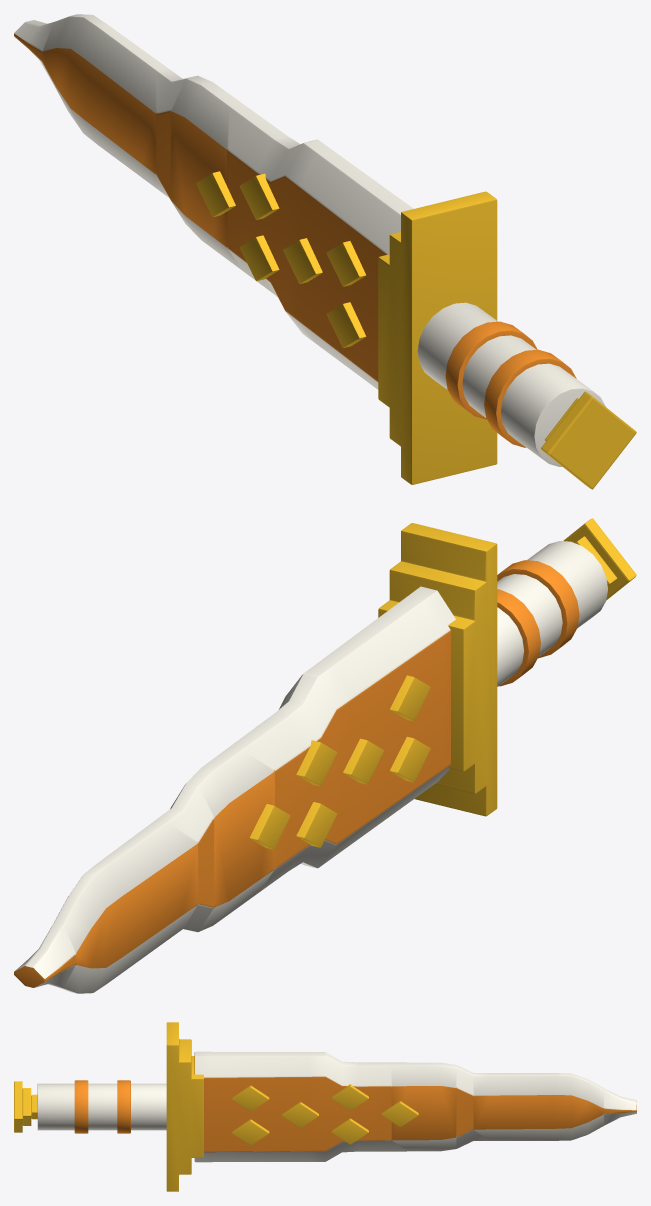
Rendered from Sword_AurelianClaymore.glb.
3 renders of one model, top to bottom at view 1: azimuth 30°, elevation 25°; view 2: azimuth 150°, elevation 25°; view 3: azimuth 270°, elevation 25°, orthographic. The views are drawn at different scales.
Parts seen in each view (by area): view 1: Sword_AurelianClaymore; view 2: Sword_AurelianClaymore; view 3: Sword_AurelianClaymore.
Part boxes in pixels (left/top/right/bottom): Sword_AurelianClaymore: left=14, top=14, right=636, bottom=489; Sword_AurelianClaymore: left=14, top=518, right=636, bottom=993; Sword_AurelianClaymore: left=14, top=1022, right=636, bottom=1191.
Bounding box in the file's own units: 0.0912 × 0.26 × 1.
Materials: 1 (1 with a texture image).
